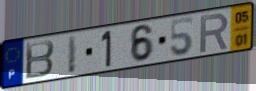1: (100, 29, 113, 69)
5: (170, 14, 196, 59)
6: (128, 23, 156, 65)
B: (24, 38, 57, 81)
I: (67, 33, 79, 76)
R: (199, 11, 230, 54)
